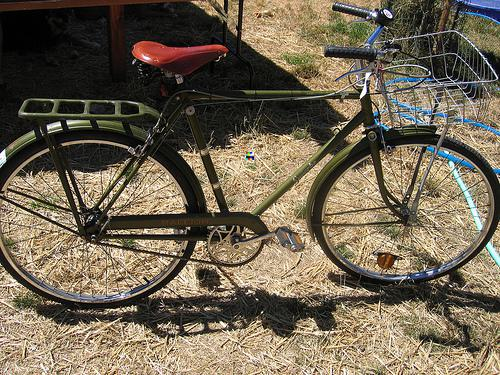car: (1, 1, 500, 312)
